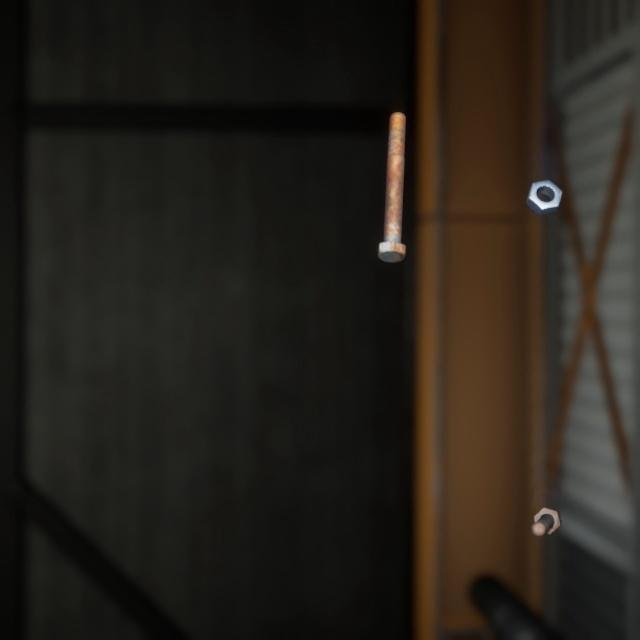bolt: (373, 94, 410, 253), (526, 481, 565, 518)
nut: (521, 161, 566, 205)
